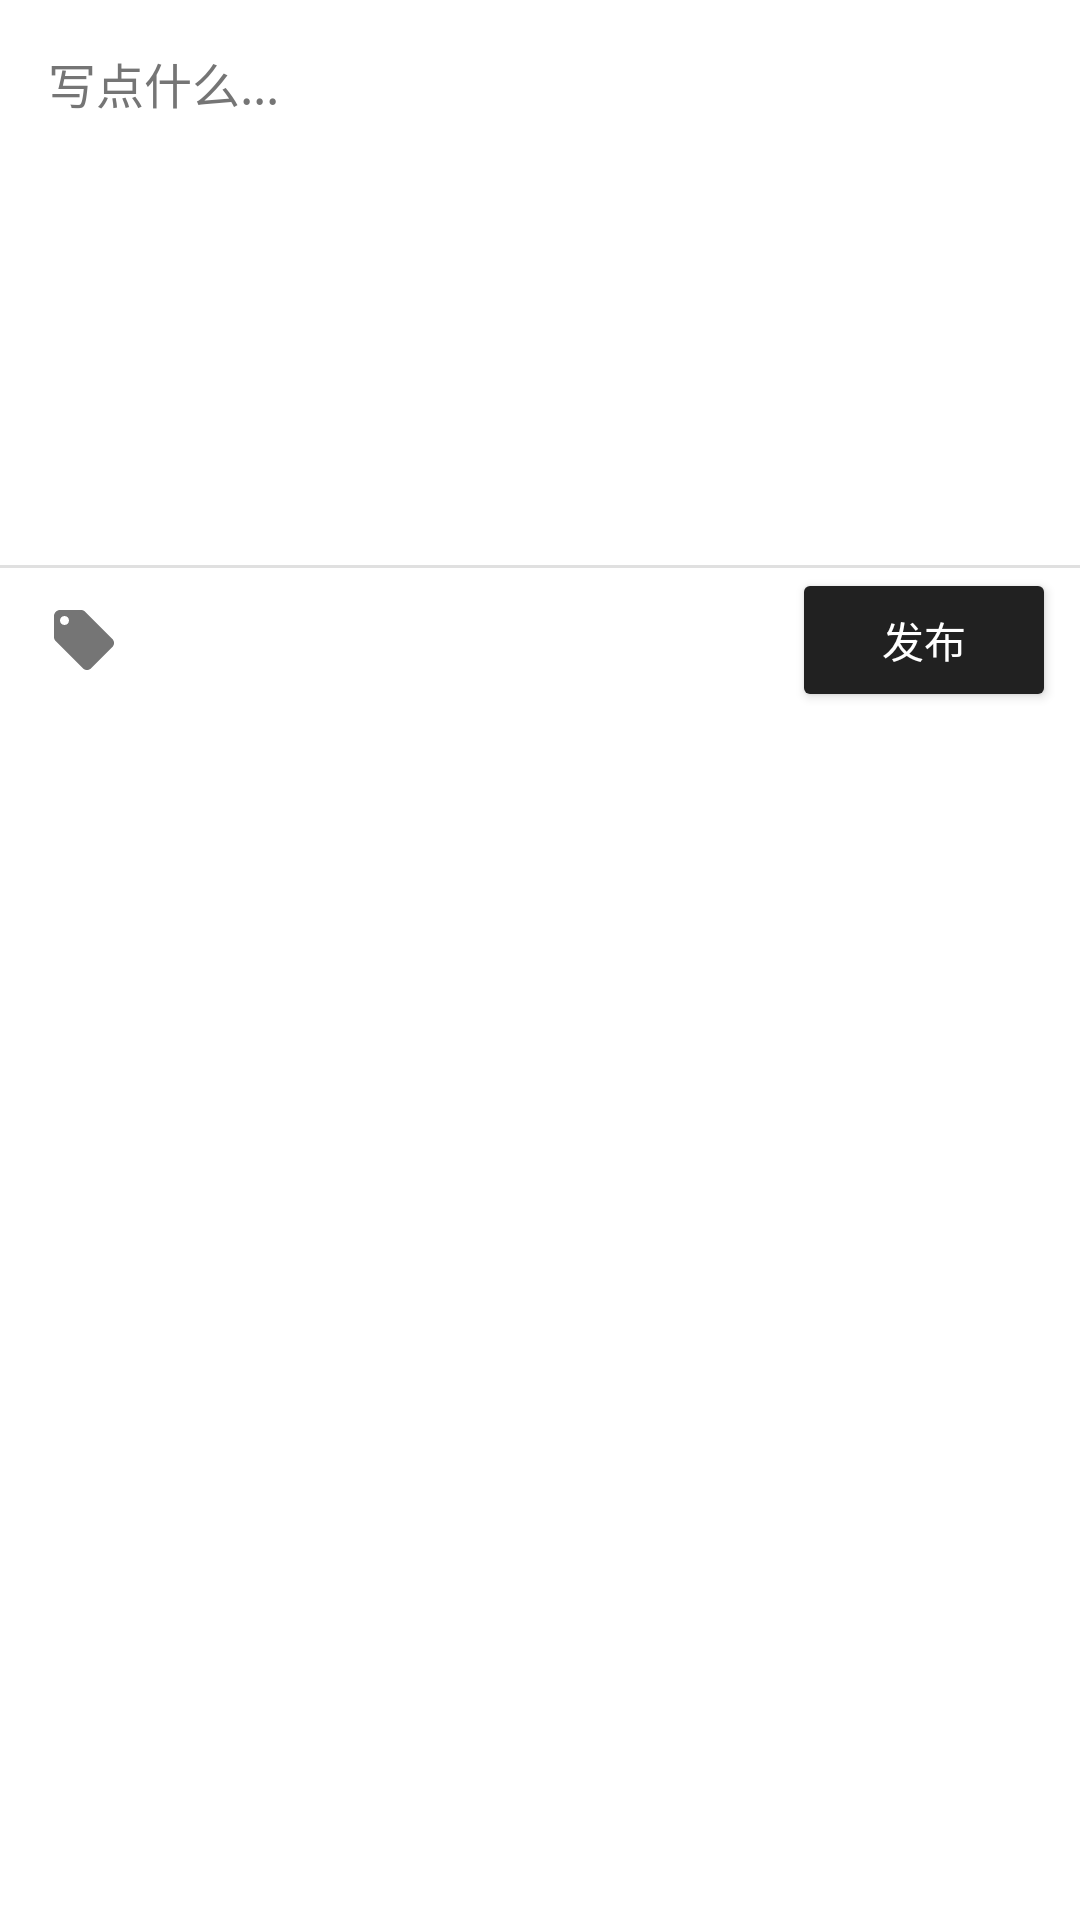

Point at icon controls on the screen. Image size 1080px x 1920px, points as (x=x, y=y).
tag: (x=84, y=640)
